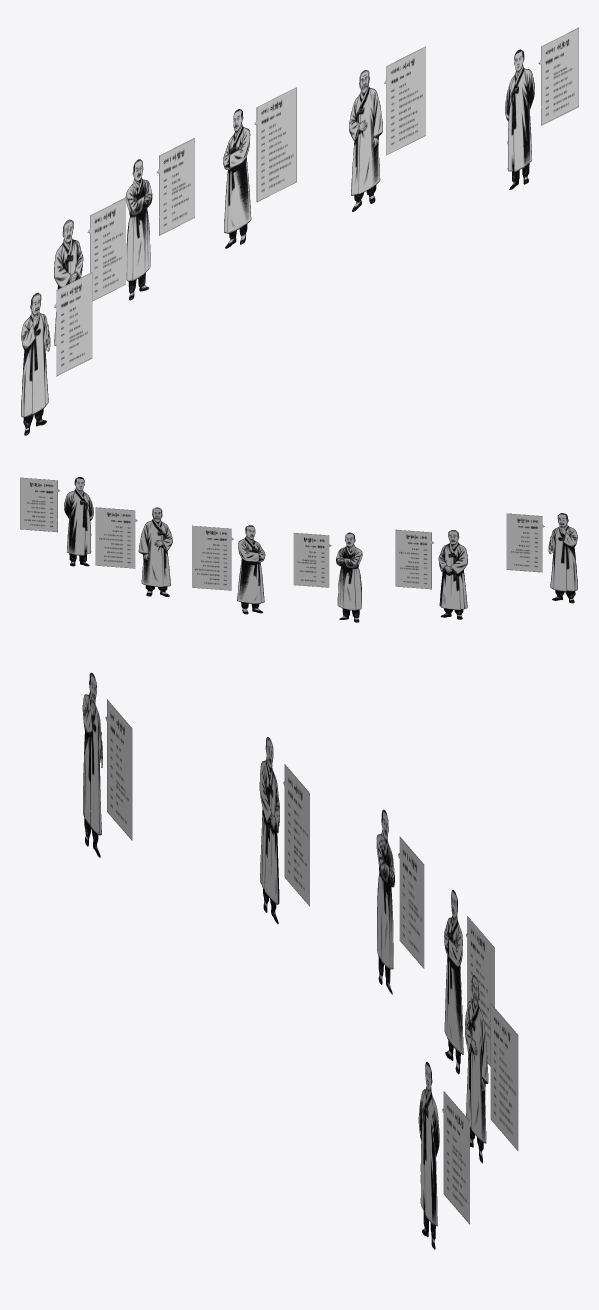
The model's file is brothers.glb.
3 views of the same model, one above another, from view 1: azimuth 30°, elevation 25°; view 2: azimuth 150°, elevation 25°; view 3: azimuth 270°, elevation 25° (orthographic). The views are drawn at different scales.
Parts seen in each view (by area): view 1: Plane; view 2: Plane; view 3: Plane.
Part boxes in pixels (box(x1,y1,x2,y2)): Plane: box(21, 27, 578, 435); Plane: box(20, 477, 577, 622); Plane: box(82, 672, 518, 1249).
Size of the model in its own units: 11.88 by 2.2 by 4.83.
6 materials, 6 textured.
